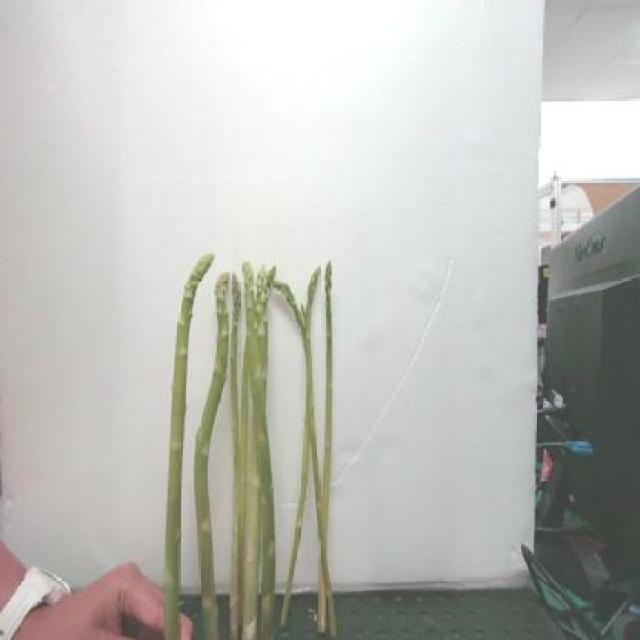aspargus: (162, 253, 214, 640), (193, 271, 231, 640), (319, 257, 336, 636)
